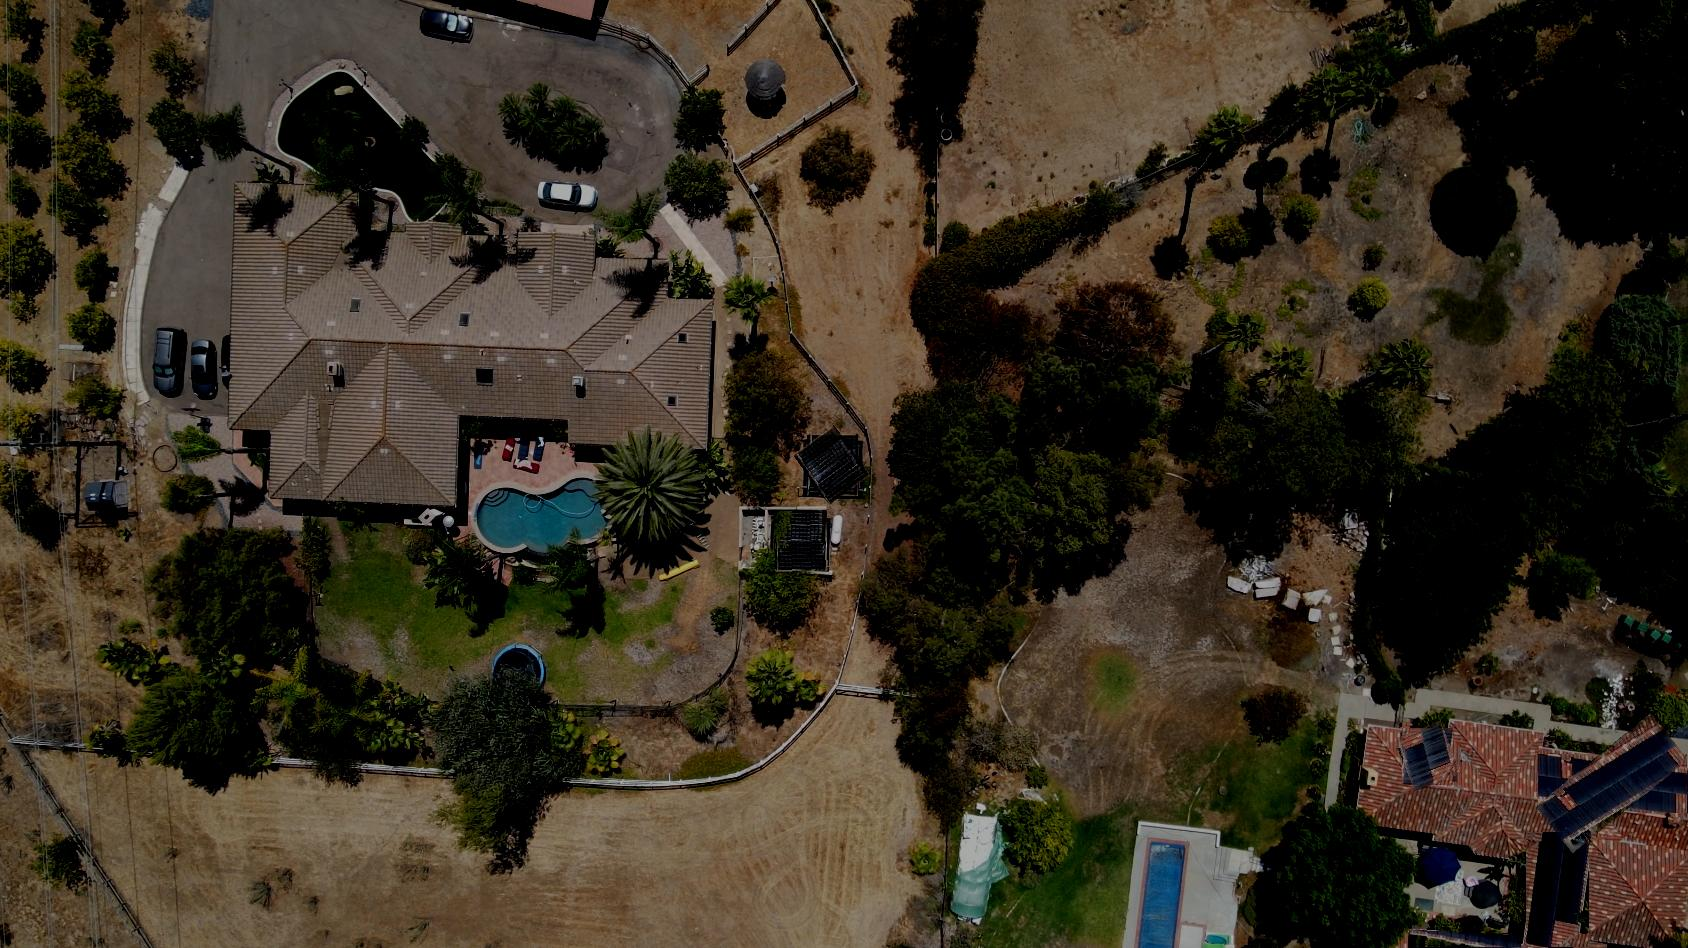solar-panels: (1536, 728, 1681, 839), (1526, 831, 1589, 948), (796, 425, 870, 505), (1404, 720, 1451, 792), (776, 510, 827, 570), (1409, 929, 1521, 948)
